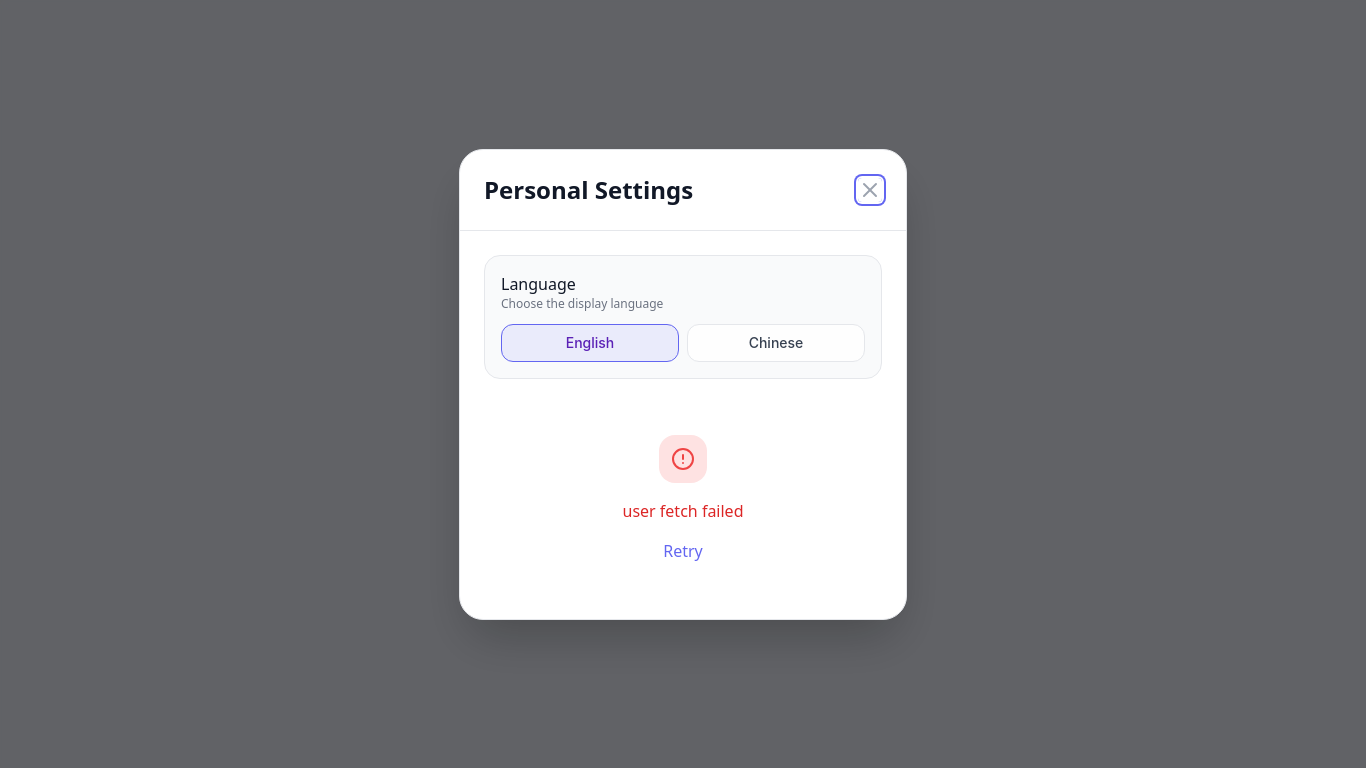
Scenario: AccountModal behavior › renders retry flow when loading user fails once
Expected: the text "user fetch failed" is shown, [622,500,744,522]
Step 1. Click the button with aria-label "Retry loading user info" → point(683, 550), box [663,538,703,562]
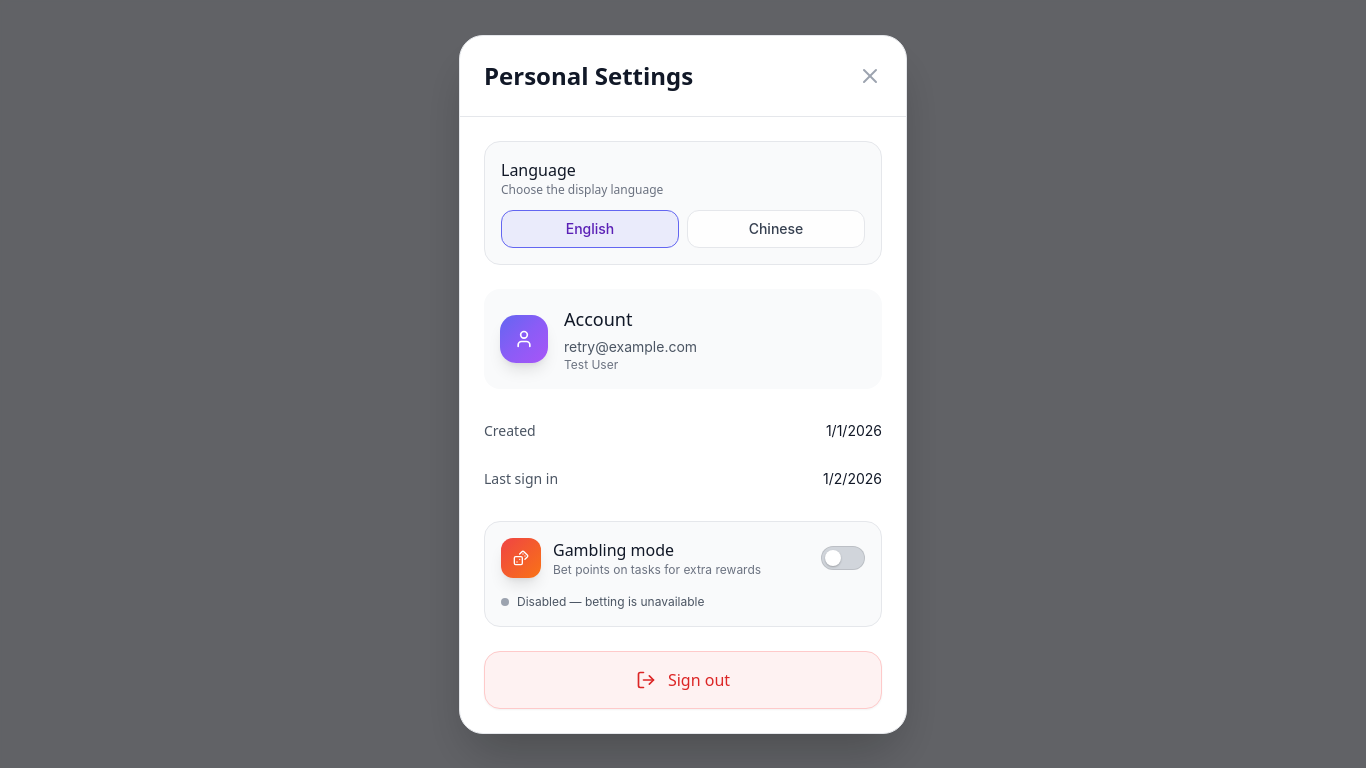
Now the text "retry@example.com" is shown, box [564,338,697,354]
